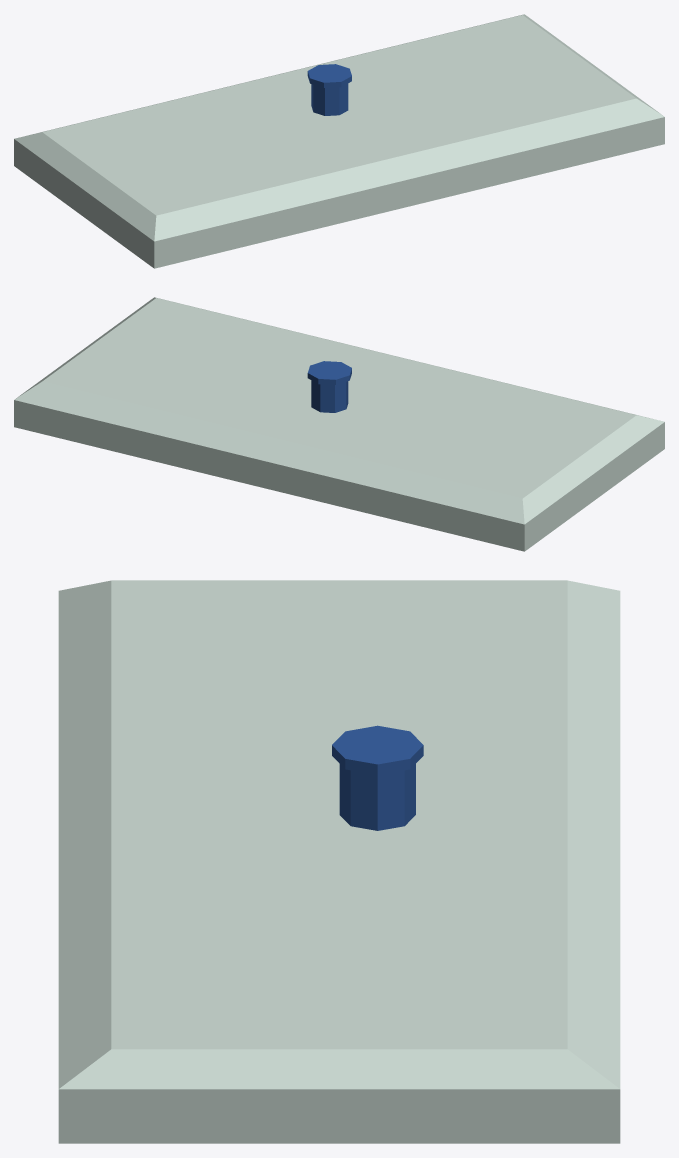
Rendered from ToiletCover.fbx.
3 renders of one model, top to bottom at view 1: azimuth 30°, elevation 25°; view 2: azimuth 150°, elevation 25°; view 3: azimuth 270°, elevation 25°, orthographic. The views are drawn at different scales.
Parts seen in each view (by area): view 1: Cube.001, Cylinder; view 2: Cube.001, Cylinder; view 3: Cube.001, Cylinder.
Boxes of the visible parts, <box> form: Cube.001: <box>14,14,664,268</box>; Cylinder: <box>307,64,351,115</box>; Cube.001: <box>14,297,664,551</box>; Cylinder: <box>307,361,351,412</box>; Cube.001: <box>58,580,620,1143</box>; Cylinder: <box>332,725,423,830</box>.
Bounding box in the file's own units: 30.84 × 4.31 × 14.68.
